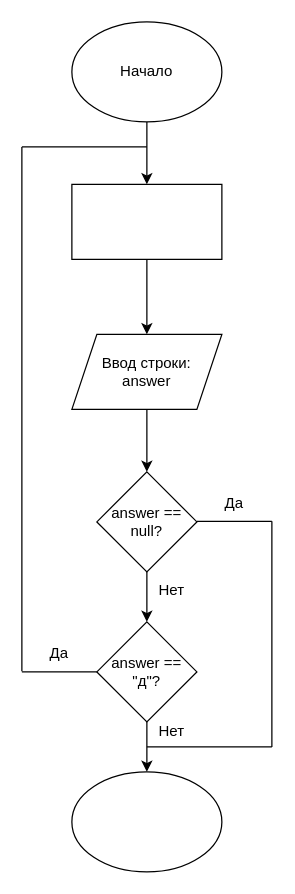
This 295x894 diagram has some shape labels left out. The shapes that lost their labels are listed below. From the top down, each one's box as (x1, y1, x2, y2) in pixels, then its label:
(71, 183, 222, 259): Вывод: Приветствуем вас!
(71, 771, 222, 872): Конец
